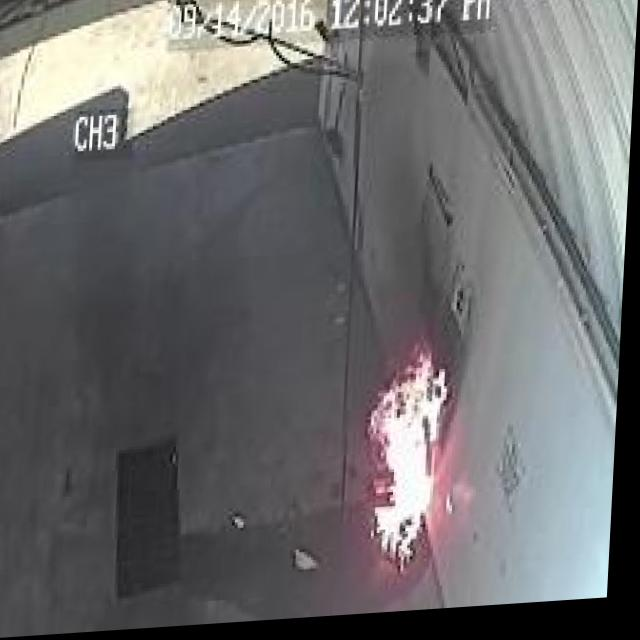fire: (358, 331, 474, 583)
